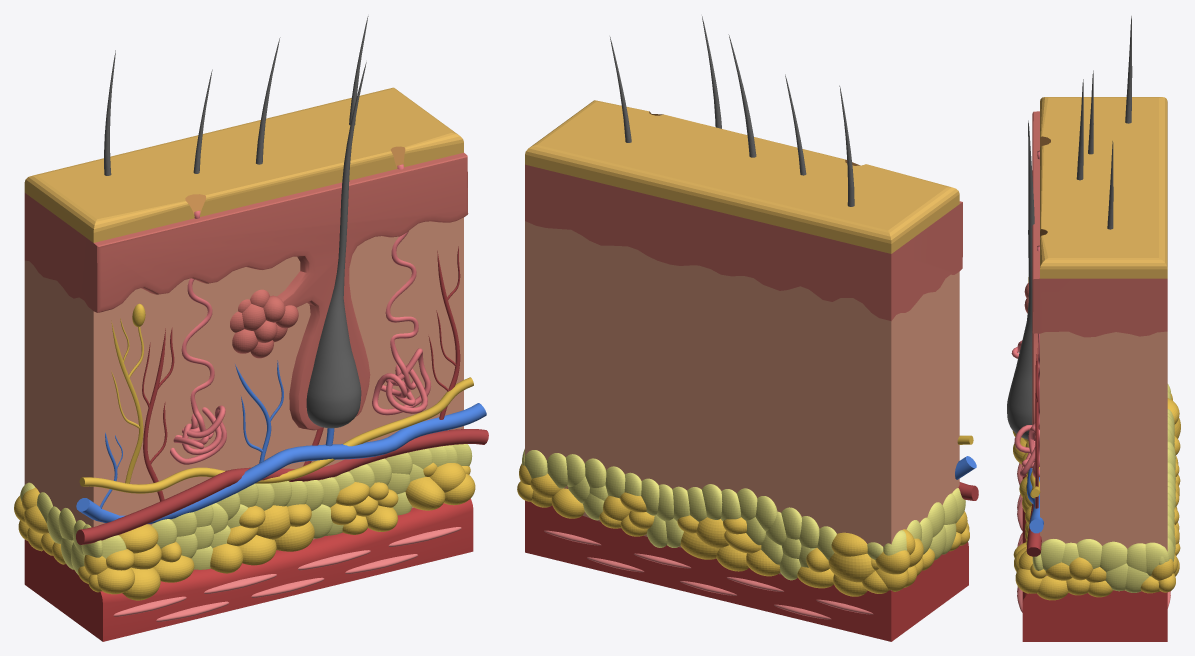
File: kulit.glb
3 renders of one model, left to right at view 1: azimuth 30°, elevation 25°; view 2: azimuth 150°, elevation 25°; view 3: azimuth 270°, elevation 25°, orthographic. The views are drawn at different scales.
Parts seen in each view (by area): view 1: Cube_1, Cube.005_7, Cube.004_6, Cube.002_4, Circle.003_2, BezierCurve.001_8, BezierCurve.002_9, BezierCurve.003_10, Cylinder.006_22, BezierCurve.007_19, Sphere.007_16, BezierCurve.011_20 (+13 smaller); view 2: Cube_1, Cube.004_6, Cube.005_7, Cube.002_4, Circle.003_2, Cylinder.001_23, Sphere.097_118, Sphere.105_126, Sphere.100_121, Sphere.148_169, Sphere.104_125, Sphere.091_112; view 3: Cube_1, Cube.004_6, Cube.005_7, Cube.002_4, Circle.003_2, BezierCurve.001_8, Sphere.071_92, Sphere.069_90, Sphere.060_81, BezierCurve.013_15, Sphere.059_80, Sphere.075_96 (+13 smaller).
Boxes of the visible parts, bbox=[...] form: Cube_1: bbox=[24, 217, 463, 539]; Cube.005_7: bbox=[24, 152, 468, 430]; Cube.004_6: bbox=[24, 87, 463, 242]; Cube.002_4: bbox=[24, 498, 473, 641]; Circle.003_2: bbox=[104, 16, 368, 428]; BezierCurve.001_8: bbox=[170, 164, 430, 464]; BezierCurve.002_9: bbox=[76, 403, 486, 524]; BezierCurve.003_10: bbox=[76, 429, 488, 544]; Cylinder.006_22: bbox=[113, 527, 461, 621]; BezierCurve.007_19: bbox=[79, 377, 473, 493]; Sphere.007_16: bbox=[230, 289, 298, 358]; BezierCurve.011_20: bbox=[142, 327, 174, 501]; Cube_1: bbox=[525, 221, 959, 590]; Cube.004_6: bbox=[525, 100, 959, 253]; Cube.005_7: bbox=[525, 164, 962, 321]; Cube.002_4: bbox=[525, 500, 968, 641]; Circle.003_2: bbox=[610, 16, 854, 206]; Cylinder.001_23: bbox=[544, 530, 873, 619]; Sphere.097_118: bbox=[828, 553, 875, 582]; Sphere.105_126: bbox=[696, 517, 728, 548]; Sphere.100_121: bbox=[831, 532, 867, 556]; Sphere.148_169: bbox=[551, 488, 584, 518]; Sphere.104_125: bbox=[680, 531, 719, 559]; Sphere.091_112: bbox=[875, 550, 910, 574]; Cube_1: bbox=[1040, 331, 1167, 575]; Cube.004_6: bbox=[1040, 97, 1167, 278]; Cube.005_7: bbox=[1032, 111, 1167, 429]; Cube.002_4: bbox=[1022, 475, 1167, 641]; Circle.003_2: bbox=[1007, 16, 1132, 439]; BezierCurve.001_8: bbox=[1011, 150, 1039, 477]; Sphere.071_92: bbox=[1100, 541, 1127, 571]; Sphere.069_90: bbox=[1040, 539, 1065, 570]; Sphere.060_81: bbox=[1037, 576, 1068, 600]; BezierCurve.013_15: bbox=[1035, 348, 1038, 508]; Sphere.059_80: bbox=[1076, 539, 1102, 569]; Sphere.075_96: bbox=[1145, 542, 1169, 576].
Bounding box in the file's own units: 3.02 × 3.78 × 1.21.
